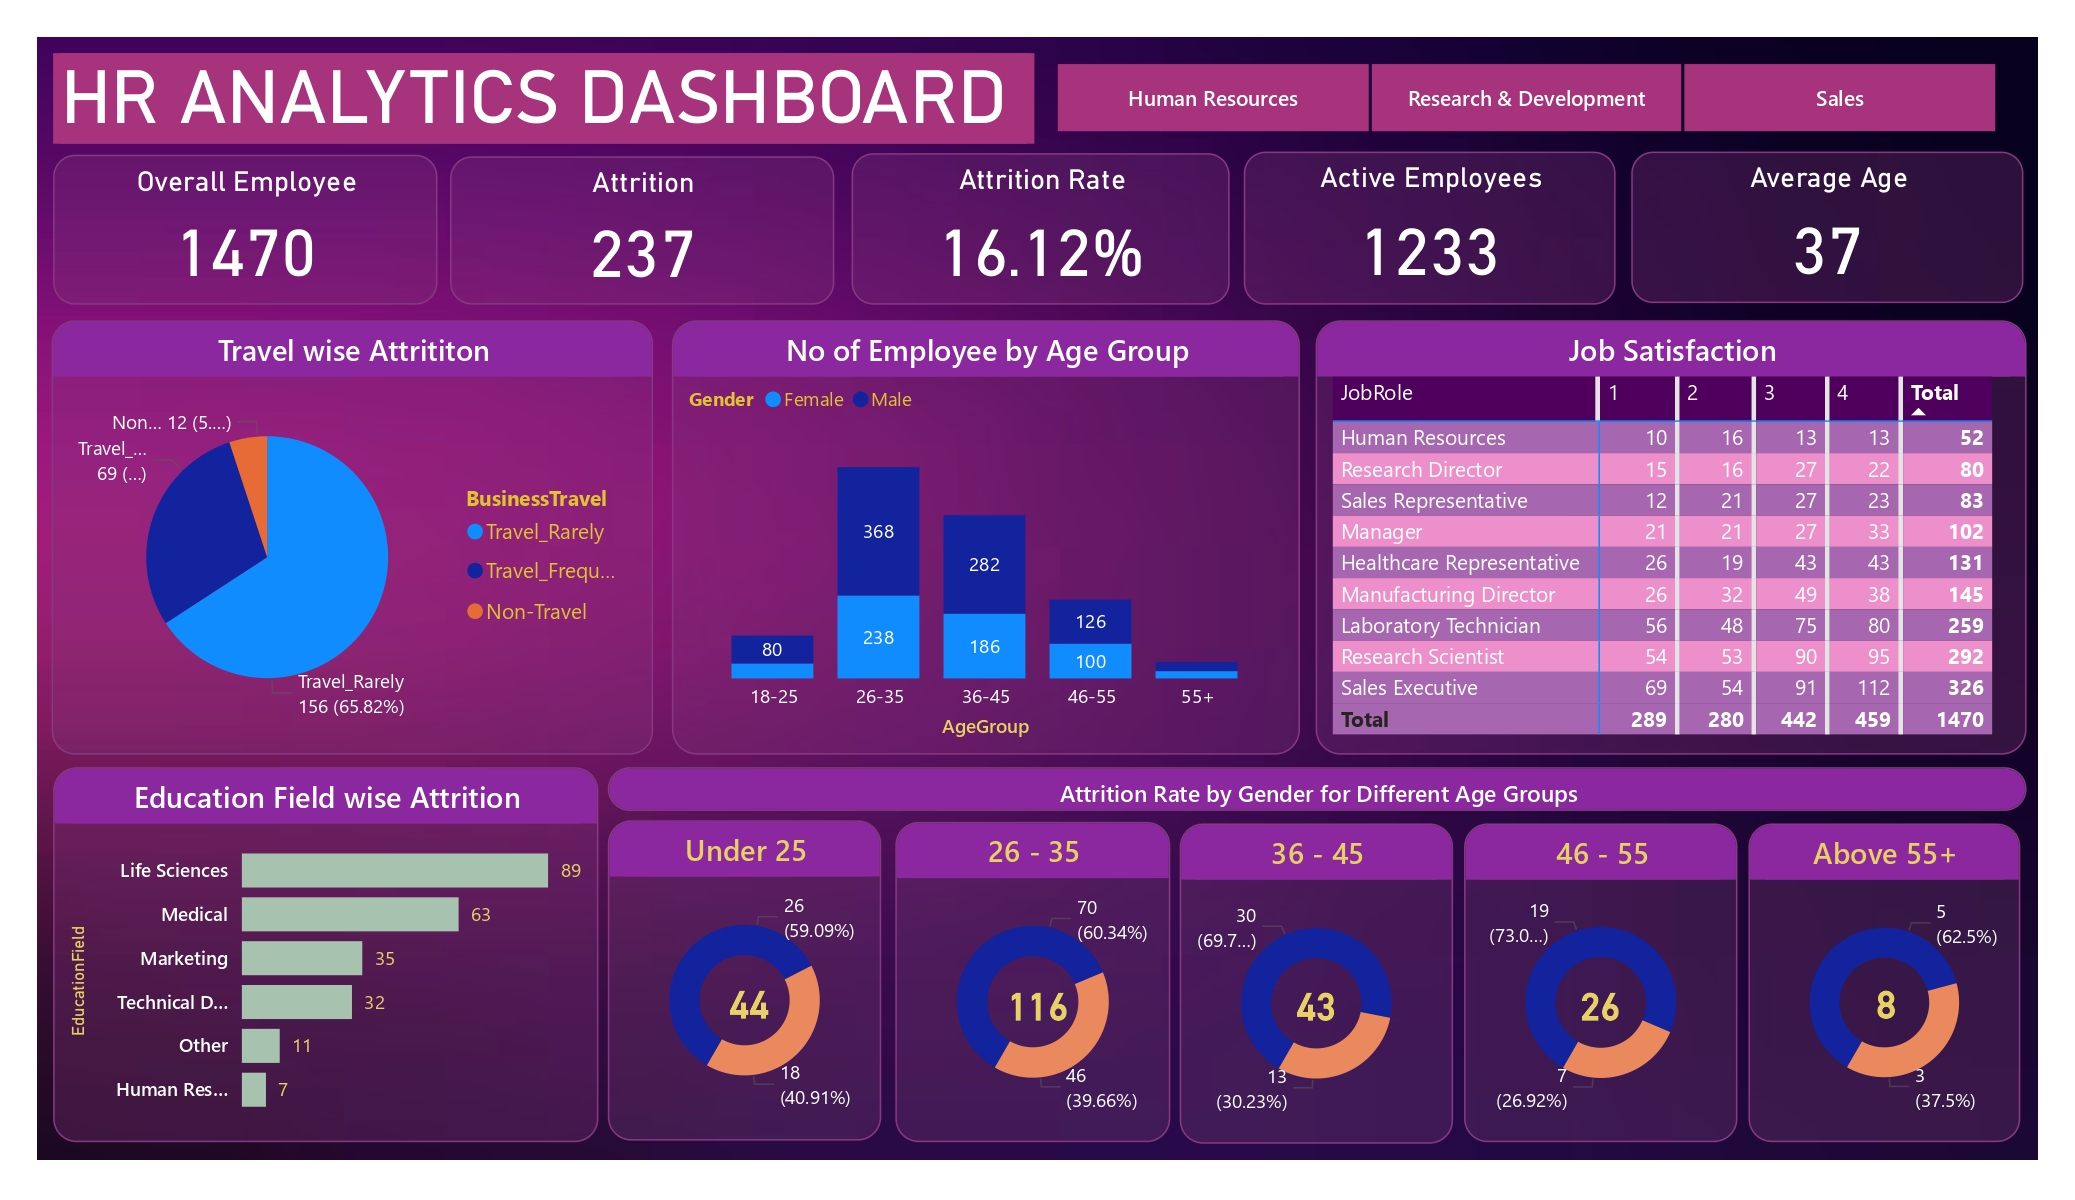

The dashboard page shown, as its layout file describes it:
{"tool":"powerbi","page":{"name":"Page 1","canvas":[1280,720],"ordinal":0},"visuals":[{"type":"card","title":"Overall Employee","fields":{"Values":["CountNonNull(HR_Analytics.EmpID)"]},"box":[10,75,246.2,96.2],"z":0},{"type":"card","title":"Attrition","fields":{"Values":["Sum(HR_Analytics.AttritionCount)"]},"box":[264,75.6,246.5,95.3],"z":1000},{"type":"card","title":"Attrition Rate","fields":{"Values":["HR_Analytics.AttritionRate"]},"box":[520.9,74.4,241.9,96.5],"z":2000},{"type":"card","title":"Average Age","fields":{"Values":["Avg(HR_Analytics.Age)"]},"box":[1019.8,73.3,251.2,96.5],"z":3000},{"type":"card","title":"Active Employees","fields":{"Values":["HR_Analytics.Active Employees"]},"box":[772.1,73.3,238.4,97.7],"z":4000},{"type":"pieChart","title":"Travel wise Attrititon","fields":{"Y":["Sum(HR_Analytics.AttritionCount)"],"Category":["HR_Analytics.BusinessTravel"]},"box":[8.6,181.4,385.7,277.1],"z":5000},{"type":"columnChart","title":"No of Employee by Age Group","fields":{"Category":["HR_Analytics.AgeGroup"],"Y":["Sum(HR_Analytics.EmployeeCount)"],"Series":["HR_Analytics.Gender"]},"box":[406.4,181.4,401.4,277.1],"z":6000},{"type":"pivotTable","title":"Job Satisfaction","fields":{"Rows":["HR_Analytics.JobRole"],"Columns":["HR_Analytics.JobSatisfaction"],"Values":["Sum(HR_Analytics.EmployeeCount)"]},"box":[817.9,181.4,455,277.1],"z":7000},{"type":"barChart","title":"Education Field wise Attrition","fields":{"Category":["HR_Analytics.EducationField"],"Y":["Sum(HR_Analytics.AttritionCount)"]},"box":[10,467.1,348.6,240],"z":8000},{"type":"donutChart","title":"Under 25","fields":{"Category":["HR_Analytics.Gender"],"Y":["Sum(HR_Analytics.AttritionCount)"],"Series":["HR_Analytics.AgeGroup"]},"box":[365.3,501.3,175,204.7],"z":9000},{"type":"textbox","title":"Attrition Rate by Gender for Different Age Groups","box":[364.5,467.3,908.2,28.2],"z":10000},{"type":"donutChart","title":"26 - 35","fields":{"Category":["HR_Analytics.Gender"],"Y":["Sum(HR_Analytics.AttritionCount)"],"Series":["HR_Analytics.AgeGroup"]},"box":[549.3,502,175.3,205.3],"z":11000},{"type":"donutChart","title":"36 - 45","fields":{"Y":["Sum(HR_Analytics.AttritionCount)"],"Series":["HR_Analytics.AgeGroup"],"Category":["HR_Analytics.Gender"]},"box":[731.3,503.3,174.7,204.7],"z":12000},{"type":"donutChart","title":"46 - 55","fields":{"Category":["HR_Analytics.Gender"],"Y":["Sum(HR_Analytics.AttritionCount)"],"Series":["HR_Analytics.AgeGroup"]},"box":[912.7,503.3,175.3,204],"z":13000},{"type":"donutChart","title":"Above 55+","fields":{"Category":["HR_Analytics.Gender"],"Y":["Sum(HR_Analytics.AttritionCount)"],"Series":["HR_Analytics.AgeGroup"]},"box":[1094.7,502.7,174.7,204.7],"z":14000},{"type":"card","fields":{"Values":["Sum(HR_Analytics.AttritionCount)"]},"box":[361.4,557.1,188.6,121.4],"z":15000},{"type":"card","fields":{"Values":["Sum(HR_Analytics.AttritionCount)"]},"box":[545.7,558.6,188.6,121.4],"z":16000},{"type":"card","fields":{"Values":["Sum(HR_Analytics.AttritionCount)"]},"box":[724.3,558.6,188.6,121.4],"z":17000},{"type":"card","fields":{"Values":["Sum(HR_Analytics.AttritionCount)"]},"box":[905.7,558.6,188.6,121.4],"z":18000},{"type":"card","fields":{"Values":["Sum(HR_Analytics.AttritionCount)"]},"box":[1088.6,557.1,188.6,121.4],"z":19000},{"type":"textbox","title":"HR ANALYTICS DASHBOARD","box":[10,10,627.5,57.5],"z":20000},{"type":"slicer","fields":{"Values":["HR_Analytics.Department"]},"box":[627.1,10,650,57.1],"z":21000}]}

Visuals, with their boxes on the page's 1280x720 design canvas (x1, y1, x2, y2). These are canvas units, not pixel positions in the 2075x1200 screenshot, which may show the page scaled, cropped or inside an application window:
"Overall Employee" card: box=[10, 75, 256, 171]
"Attrition" card: box=[264, 76, 510, 171]
"Attrition Rate" card: box=[521, 74, 763, 171]
"Average Age" card: box=[1020, 73, 1271, 170]
"Active Employees" card: box=[772, 73, 1010, 171]
"Travel wise Attrititon" pieChart: box=[9, 181, 394, 458]
"No of Employee by Age Group" columnChart: box=[406, 181, 808, 458]
"Job Satisfaction" pivotTable: box=[818, 181, 1273, 458]
"Education Field wise Attrition" barChart: box=[10, 467, 359, 707]
"Under 25" donutChart: box=[365, 501, 540, 706]
"Attrition Rate by Gender for Different Age Groups" textbox: box=[364, 467, 1273, 496]
"26 - 35" donutChart: box=[549, 502, 725, 707]
"36 - 45" donutChart: box=[731, 503, 906, 708]
"46 - 55" donutChart: box=[913, 503, 1088, 707]
"Above 55+" donutChart: box=[1095, 503, 1269, 707]
card - Sum(HR_Analytics.AttritionCount): box=[361, 557, 550, 678]
card - Sum(HR_Analytics.AttritionCount): box=[546, 559, 734, 680]
card - Sum(HR_Analytics.AttritionCount): box=[724, 559, 913, 680]
card - Sum(HR_Analytics.AttritionCount): box=[906, 559, 1094, 680]
card - Sum(HR_Analytics.AttritionCount): box=[1089, 557, 1277, 678]
"HR ANALYTICS DASHBOARD" textbox: box=[10, 10, 638, 68]
slicer - HR_Analytics.Department: box=[627, 10, 1277, 67]
